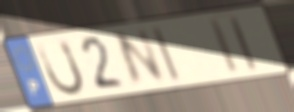2: (80, 34, 128, 95)
I: (207, 16, 243, 77), (149, 24, 183, 84), (227, 13, 260, 73)
N: (112, 26, 169, 92)
U: (33, 37, 86, 99)
